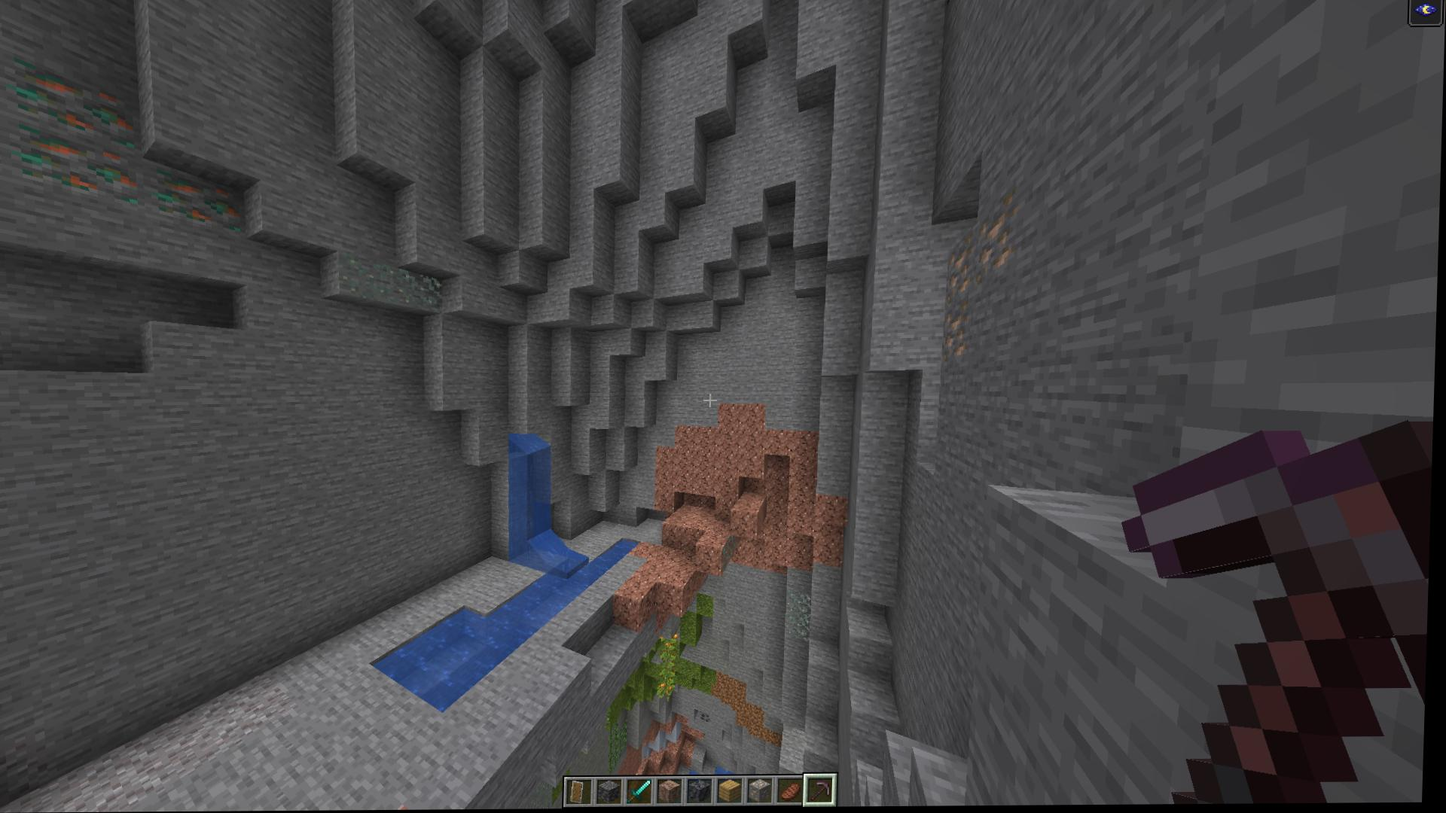iron ore: (977, 200, 1024, 279), (944, 243, 977, 297), (945, 308, 977, 363)
